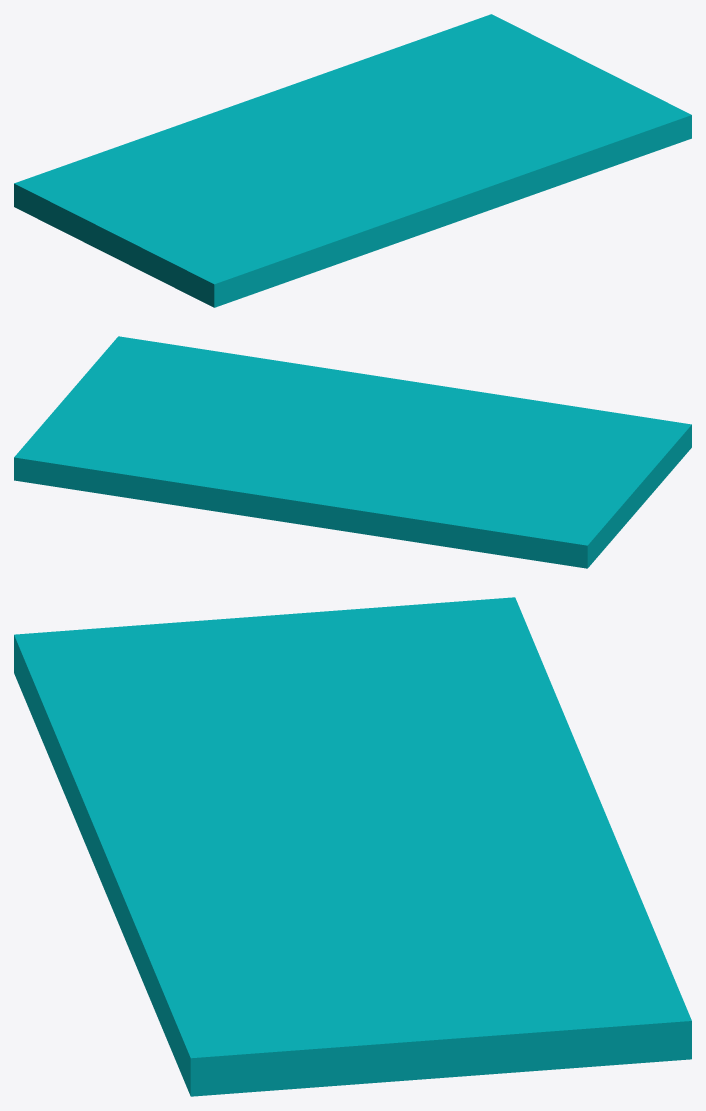
Rendered from 2x1_platform.fbx.
3 renders of one model, top to bottom at view 1: azimuth 30°, elevation 25°; view 2: azimuth 150°, elevation 25°; view 3: azimuth 270°, elevation 25°, orthographic. The views are drawn at different scales.
Visible parts, largest first — view 1: BP_2x1; view 2: BP_2x1; view 3: BP_2x1.
Boxes of the visible parts, box(x1,y1,x2,y2) form: BP_2x1: box(14, 14, 691, 307); BP_2x1: box(14, 336, 691, 568); BP_2x1: box(14, 597, 691, 1096).
Size of the model in its own units: 643 by 400 by 25.
